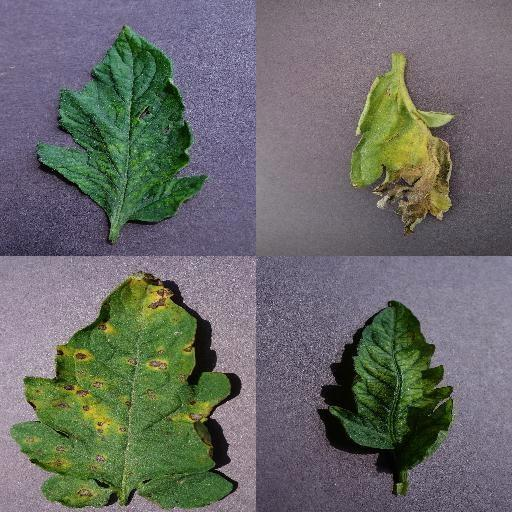Late Blight: (351, 71, 455, 237)
Mosaic Virus: (35, 25, 209, 223), (327, 297, 453, 469)
Septoria: (11, 268, 238, 508)
